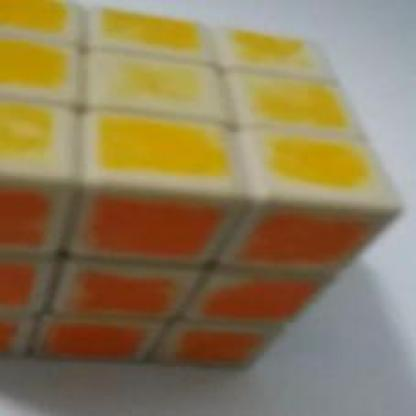cube: (6, 0, 396, 387)
